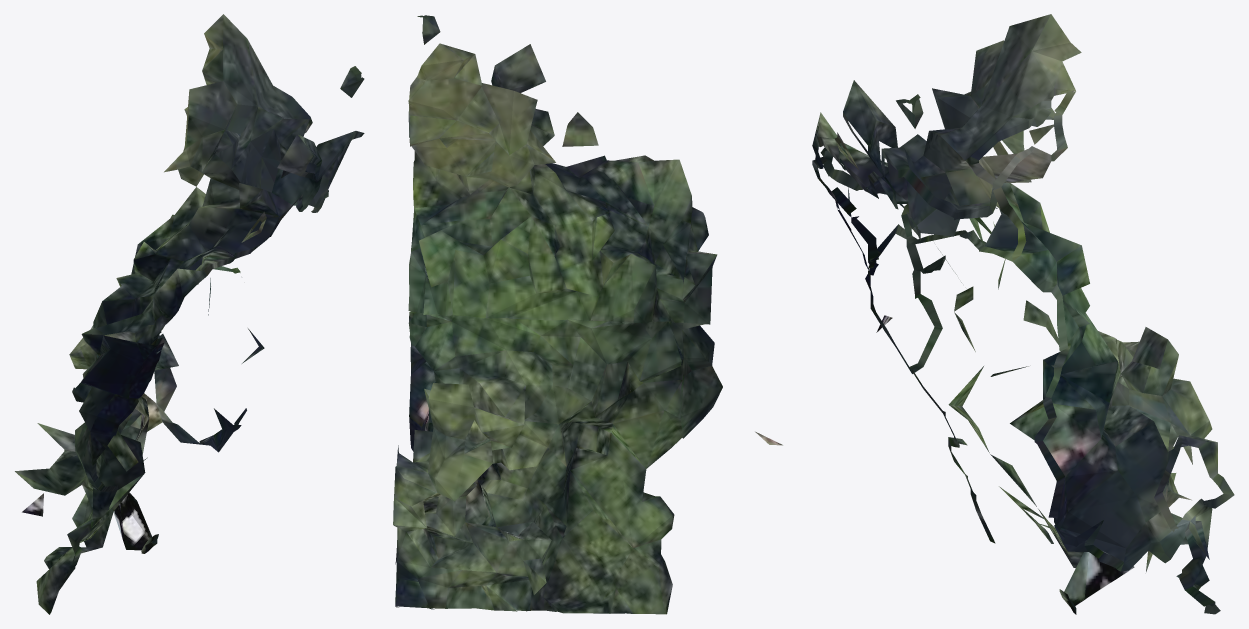
Rendered from AJVsH2y1gOdIr2mCBFgqqJApH4EQ2oKZaTDdkSctYUUVzLKeGNlIdSjxBG2QFs9F6KeRjcJ7W8Om3DQgP8fqv5XD40JvMDqT7txade35AHkZCnFqCYxDElV7xMFKhpZ0driDmnK8940pTaF8Vns8YeVuTbKO.glb.
3 views of the same model, side by side, from view 1: azimuth 30°, elevation 25°; view 2: azimuth 150°, elevation 25°; view 3: azimuth 270°, elevation 25° (orthographic). The views are drawn at different scales.
Size of the model in its own units: 26.48 by 38.52 by 22.87.
1 material, 1 textured.
